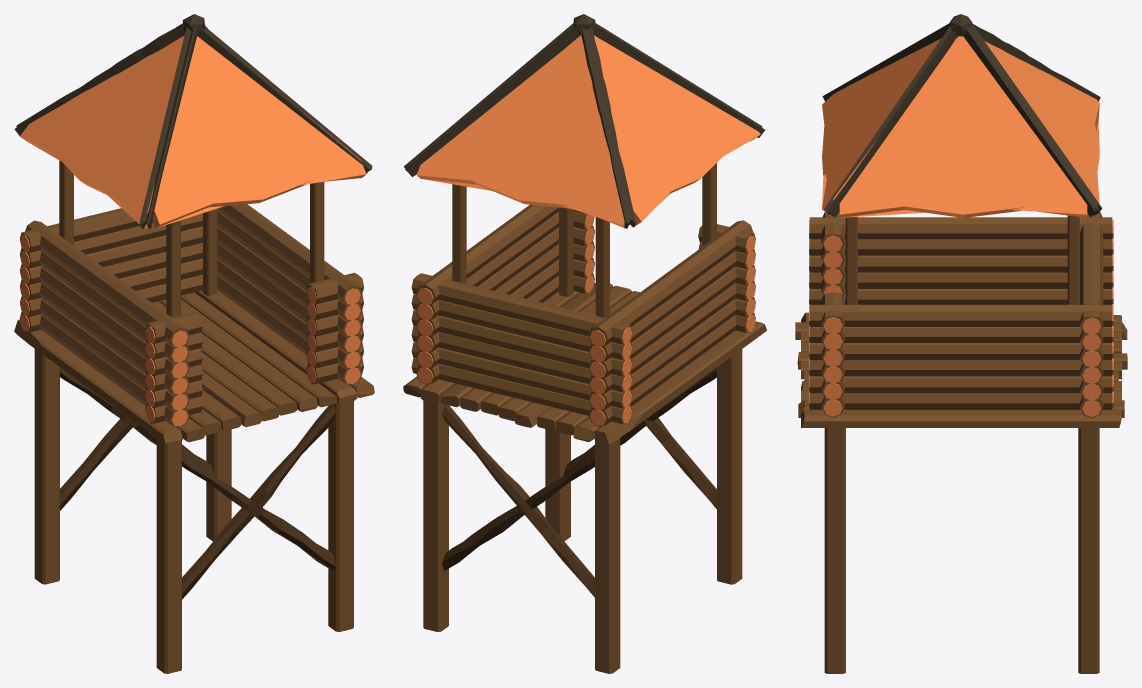
The model's file is Tower_1_Black.fbx.
The picture shows the model from 3 angles, left to right: view 1: azimuth 30°, elevation 25°; view 2: azimuth 150°, elevation 25°; view 3: azimuth 270°, elevation 25°; orthographic projection. The views are drawn at different scales.
Visible parts, largest first — view 1: Cube.390, Cube.388, Cylinder.112, Cylinder.111, Cylinder.113, Cube.368, Cube.371, Cube.369, Cube.382, Cylinder.109, Cylinder.115, Cylinder.114 (+23 smaller); view 2: Cube.387, Cylinder.113, Cube.388, Cylinder.112, Cylinder.111, Cube.371, Cube.368, Cube.370, Cube.382, Cylinder.108, Cube.391, Cube.393 (+21 smaller); view 3: Cylinder.111, Cube.389, Cylinder.112, Cube.390, Cube.387, Cube.372, Cube.369, Cube.370, Cylinder.113, Cube.391, Cube.392, Cylinder.119 (+9 smaller).
Part boxes in pixels (x1,y1,x2,y2): Cube.390: (153,36,366,228); Cube.388: (20,35,184,228); Cylinder.112: (25,220,189,427); Cylinder.111: (217,204,362,385); Cylinder.113: (20,208,202,332); Cube.368: (156,438,181,673); Cube.371: (34,349,59,584); Cube.369: (328,401,353,631); Cube.382: (14,319,182,444); Cylinder.109: (182,404,335,599); Cylinder.115: (306,272,363,384); Cylinder.114: (145,312,202,423); Cube.387: (417,35,627,228); Cylinder.113: (411,273,632,424); Cube.388: (594,35,760,226); Cylinder.112: (588,220,753,426); Cylinder.111: (415,204,558,384); Cube.371: (595,438,620,673); Cube.368: (717,349,742,584); Cube.370: (423,400,448,631); Cube.382: (594,321,766,444); Cylinder.108: (442,404,594,597); Cube.391: (404,23,580,176); Cube.393: (581,26,635,228); Cylinder.111: (809,304,1112,409); Cube.389: (839,36,1087,217); Cylinder.112: (809,217,1112,304); Cube.390: (822,38,956,216); Cube.387: (984,41,1099,203); Cube.372: (801,410,1121,427); Cube.369: (824,428,845,673); Cube.370: (1078,428,1099,673); Cylinder.113: (1079,212,1103,418); Cube.391: (963,24,1102,216); Cube.392: (824,26,958,216); Cylinder.119: (823,317,842,416).
Bounding box in the file's own units: 735 × 1771 × 871.
